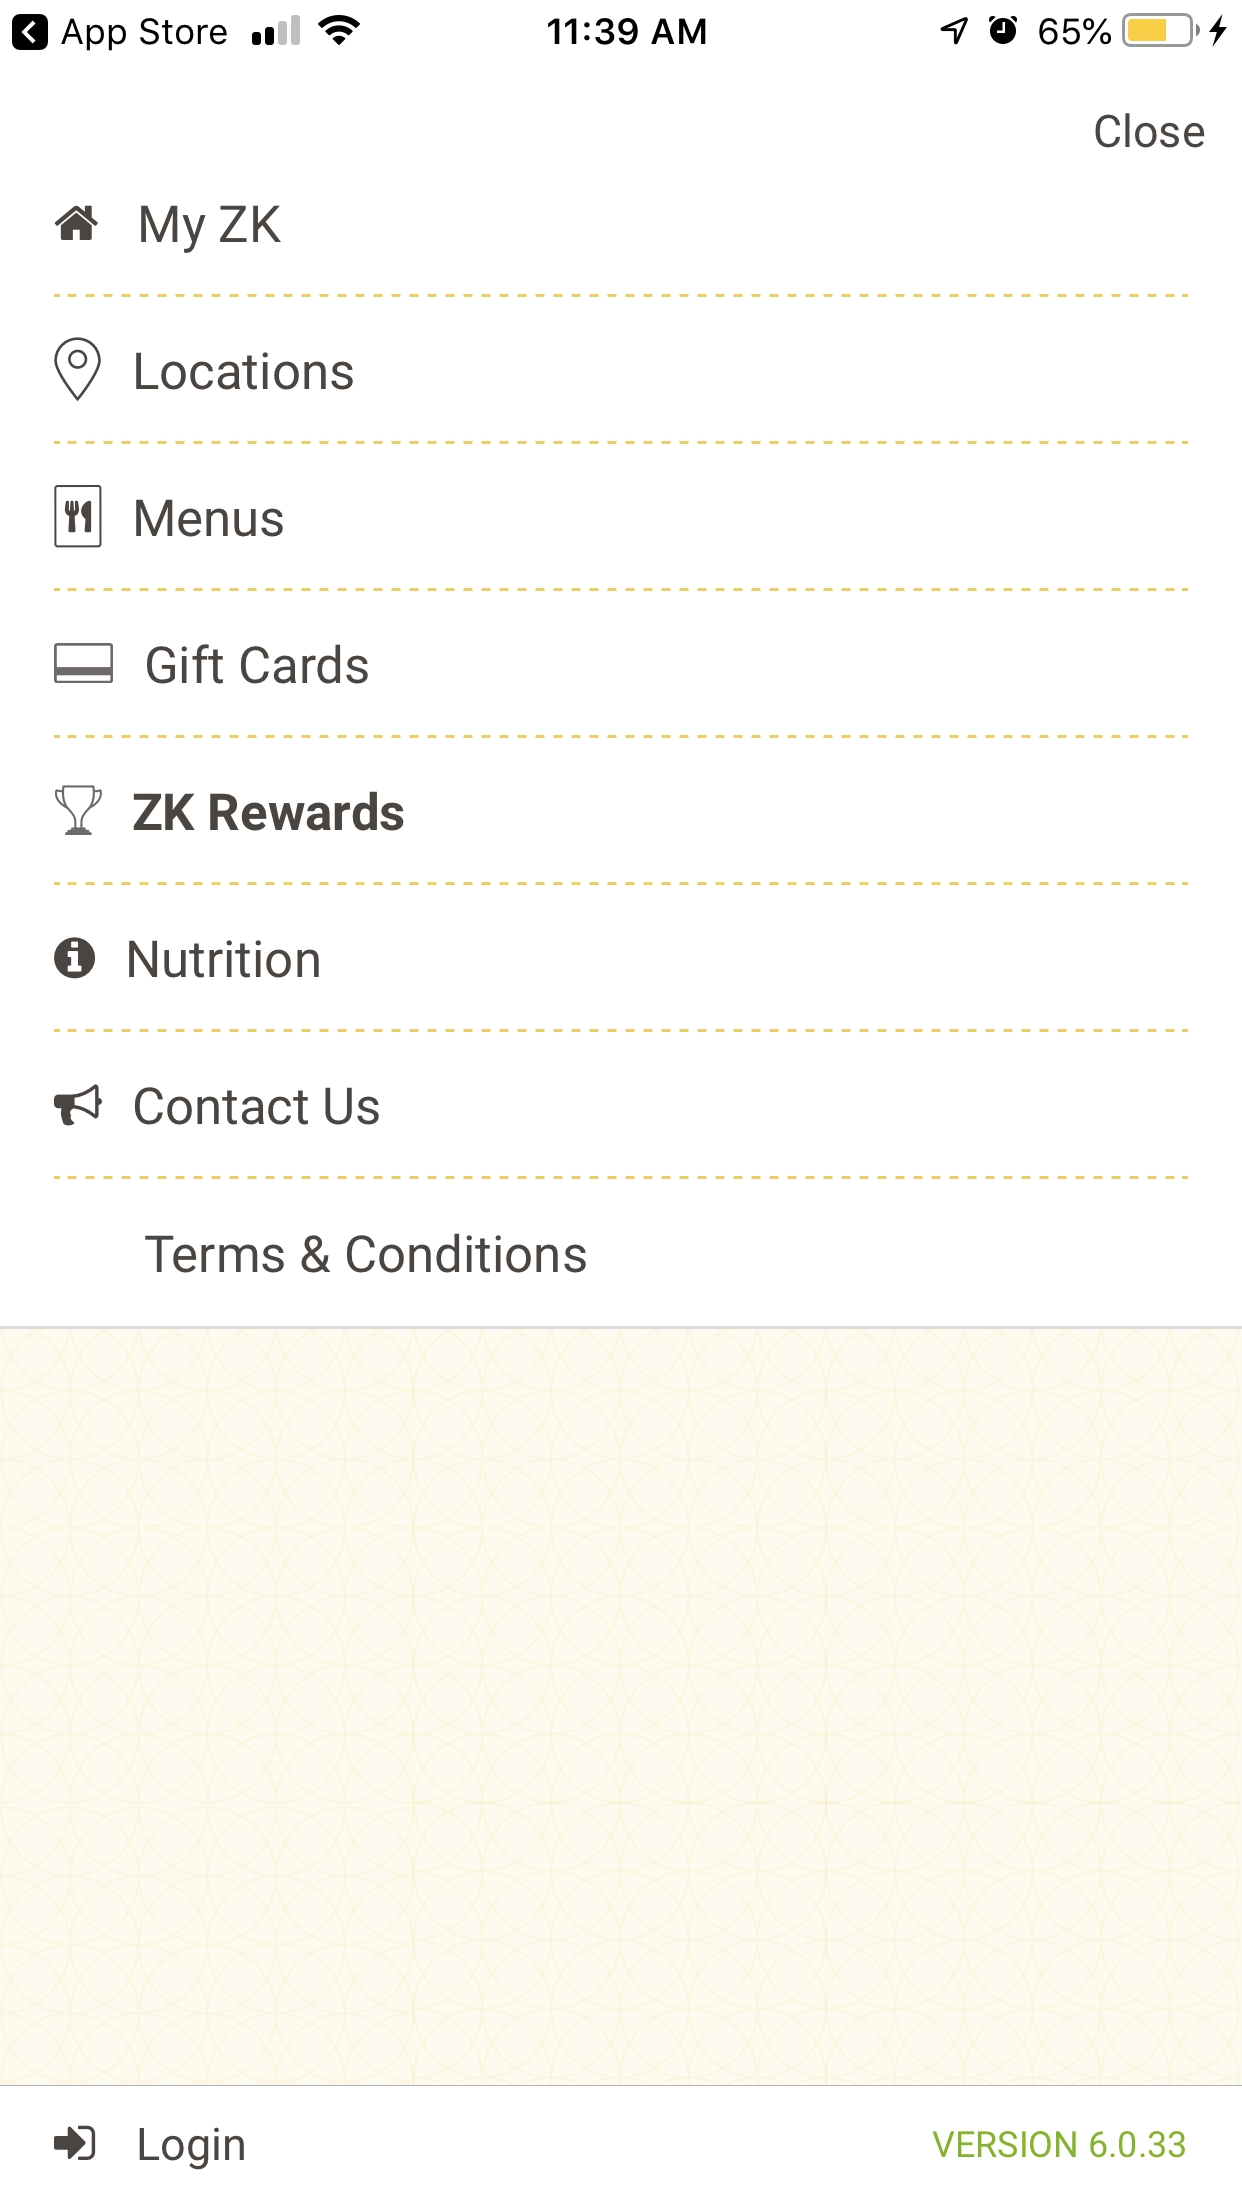Icon: (55, 337, 103, 402), (55, 641, 115, 684), (55, 937, 97, 980), (55, 2125, 97, 2161), (56, 206, 99, 241)
Image: (55, 485, 105, 549), (55, 784, 105, 836), (55, 1084, 105, 1127)
Text: (146, 1233, 587, 1274), (133, 792, 405, 833), (135, 1086, 381, 1127), (147, 643, 370, 685), (136, 352, 353, 391), (129, 940, 321, 980), (933, 2131, 1186, 2158), (143, 206, 282, 253), (136, 499, 284, 538), (140, 2128, 246, 2170), (1095, 112, 1206, 150)
UpperTaskBar: (2, 2, 1242, 53)
